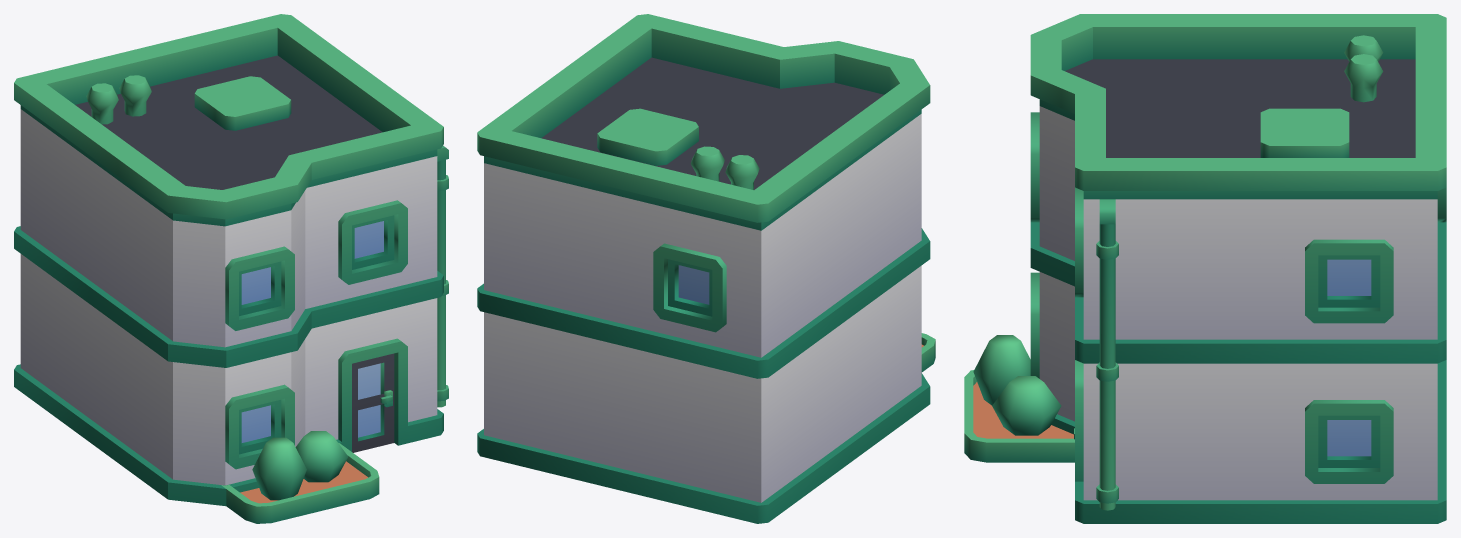
Rendered from house_level1.glb.
The picture shows the model from 3 angles, left to right: view 1: azimuth 30°, elevation 25°; view 2: azimuth 150°, elevation 25°; view 3: azimuth 270°, elevation 25°; orthographic projection. The views are drawn at different scales.
Parts seen in each view (by area): view 1: building-c; view 2: building-c; view 3: building-c.
Part boxes in pixels (x1,y1,x2,y2): building-c: (14, 14, 448, 523); building-c: (477, 14, 935, 523); building-c: (964, 14, 1446, 523).
Size of the model in its own units: 0.8836 by 0.893 by 1.09.
Materials: 1 (1 with a texture image).
